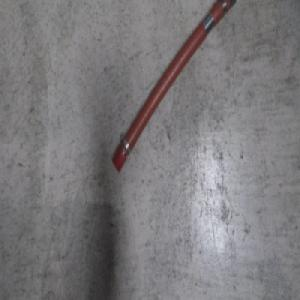Hose: (109, 0, 236, 173)
